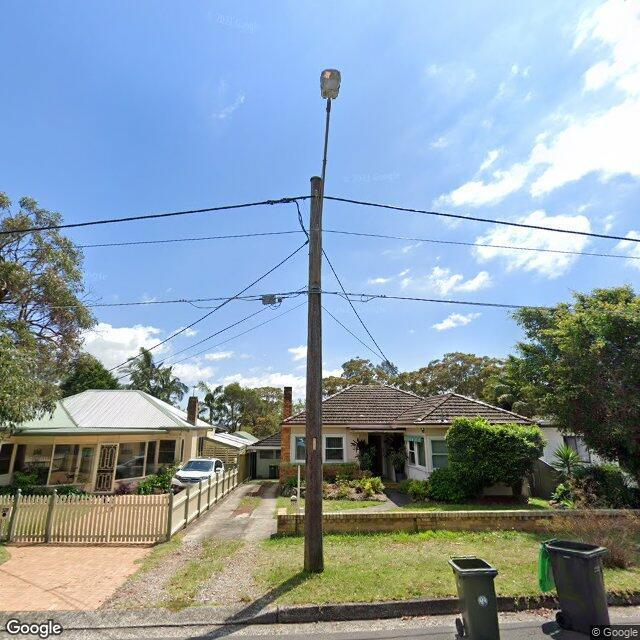streetlight: (316, 68, 342, 208)
timber-pole: (304, 179, 326, 574)
